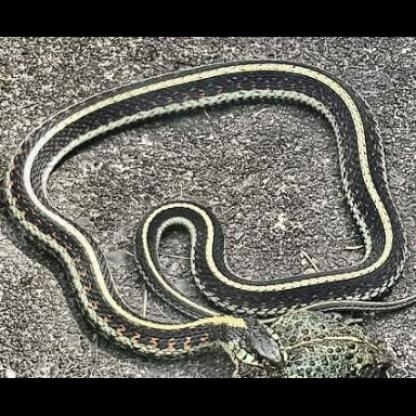Snake: (7, 52, 402, 362)
